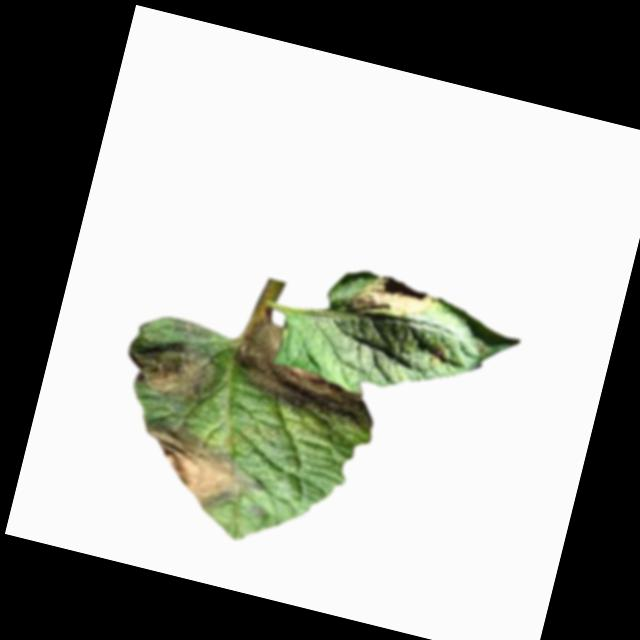Late_blight: (226, 313, 392, 435), (127, 415, 269, 523), (131, 329, 227, 411), (345, 268, 437, 334)
